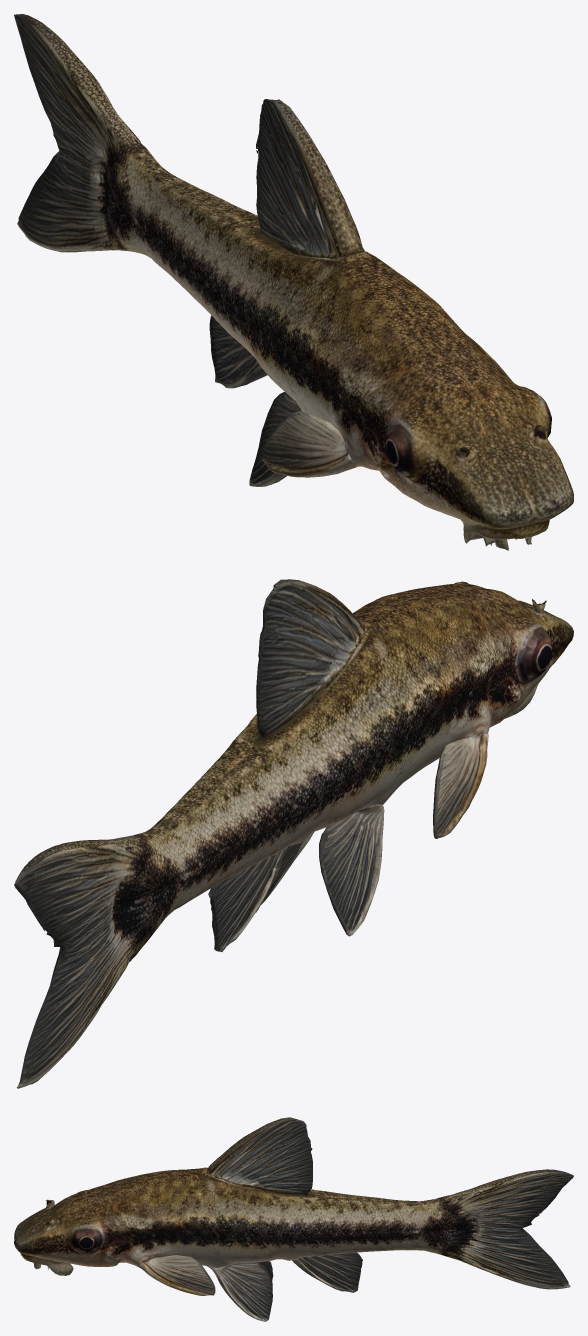
File: otocinclus.glb
The picture shows the model from 3 angles, top to bottom: view 1: azimuth 30°, elevation 25°; view 2: azimuth 150°, elevation 25°; view 3: azimuth 270°, elevation 25°; orthographic projection. The views are drawn at different scales.
Visible parts, largest first — view 1: tripo_part_0, tripo_part_3, tripo_part_2, tripo_part_6, tripo_part_7, tripo_part_5; view 2: tripo_part_0, tripo_part_3, tripo_part_2, tripo_part_5, tripo_part_6, tripo_part_7, tripo_part_4; view 3: tripo_part_0, tripo_part_3, tripo_part_2, tripo_part_4, tripo_part_1, tripo_part_7.
Boxes of the visible parts, x1,y1,x2,y2 form: tripo_part_0: (102,135,573,550); tripo_part_3: (14,14,140,252); tripo_part_2: (256,99,364,258); tripo_part_6: (261,411,357,477); tripo_part_7: (209,315,267,388); tripo_part_5: (249,392,301,486); tripo_part_0: (114,581,573,961); tripo_part_3: (14,835,137,1088); tripo_part_2: (256,579,364,737); tripo_part_5: (319,804,384,936); tripo_part_6: (433,733,488,838); tripo_part_7: (208,847,287,952); tripo_part_4: (256,831,314,912); tripo_part_0: (14,1167,475,1275); tripo_part_3: (443,1169,573,1289); tripo_part_2: (208,1117,312,1194); tripo_part_4: (208,1262,272,1321); tripo_part_1: (138,1255,215,1295); tripo_part_7: (292,1252,362,1292).
Bounding box in the file's own units: 0.1937 × 0.3691 × 0.9778.
8 materials, 8 textured.
